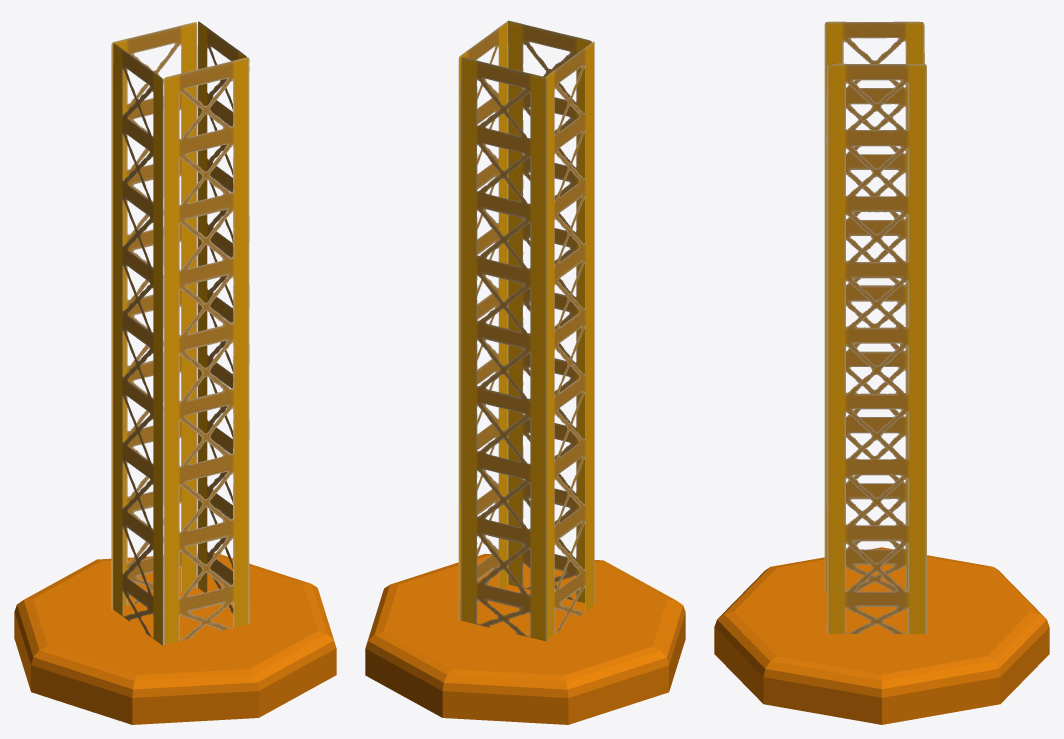
Rendered from Кран низ.fbx.
3 renders of one model, left to right at view 1: azimuth 30°, elevation 25°; view 2: azimuth 150°, elevation 25°; view 3: azimuth 270°, elevation 25°, orthographic.
Visible parts, largest first — view 1: Cylinder.001, Кран низ, Кран низ.003, Кран низ.002, Кран низ.001; view 2: Cylinder.001, Кран низ.002, Кран низ.003, Кран низ, Кран низ.001; view 3: Cylinder.001, Кран низ.001, Кран низ.003.
Boxes of the visible parts, x1,y1,x2,y2 form: Cylinder.001: [14, 553, 336, 724]; Кран низ: [163, 57, 249, 644]; Кран низ.003: [113, 43, 162, 645]; Кран низ.002: [111, 22, 197, 609]; Кран низ.001: [198, 21, 246, 612]; Cylinder.001: [365, 553, 685, 724]; Кран низ.002: [460, 57, 546, 641]; Кран низ.003: [545, 41, 594, 639]; Кран низ: [507, 20, 591, 602]; Кран низ.001: [458, 21, 508, 620]; Cylinder.001: [714, 547, 1049, 724]; Кран низ.001: [826, 63, 926, 633]; Кран низ.003: [824, 21, 924, 591].
Bounding box in the file's own units: 316 × 642 × 316.
Materials: 2 (1 with a texture image).
